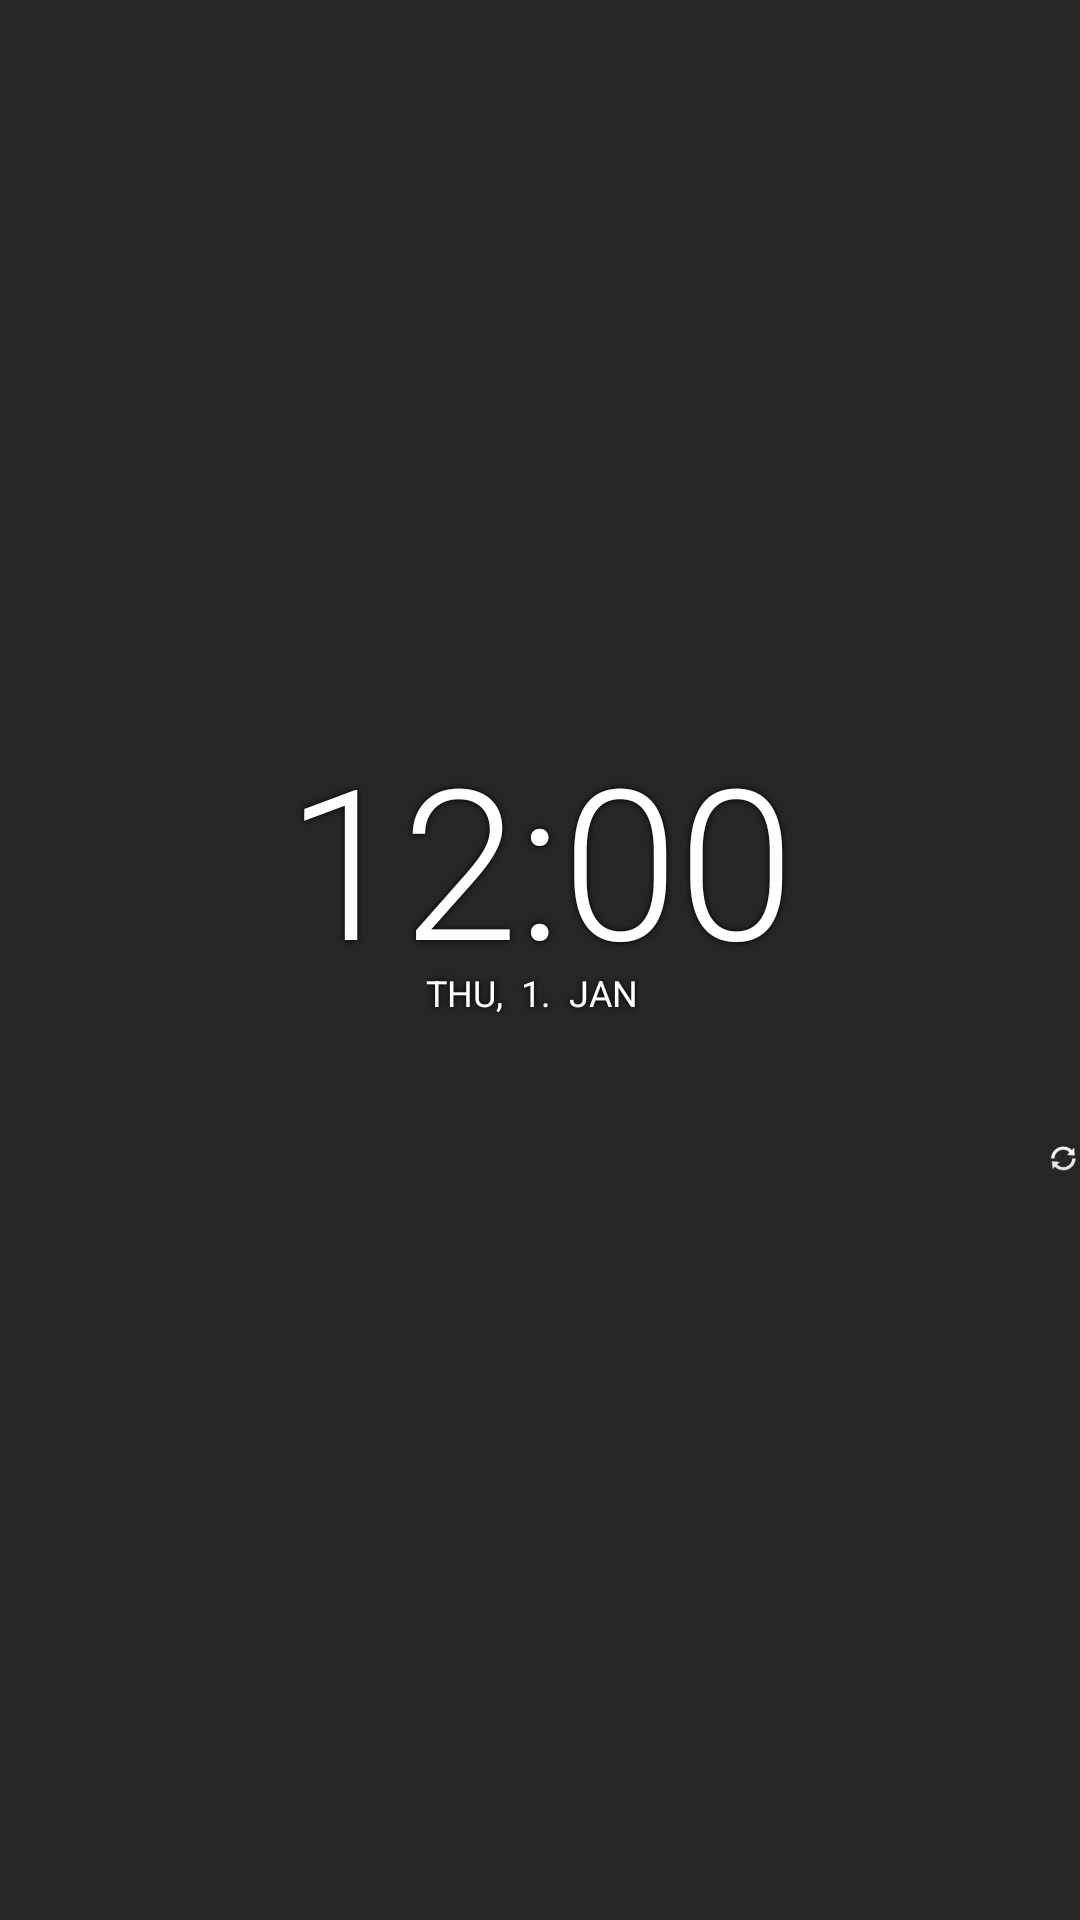

Where icons sit on this 1080w x 1920h app screen, as (x1, y1, x2, y2):
Updated: (1051, 1146, 1076, 1171)
